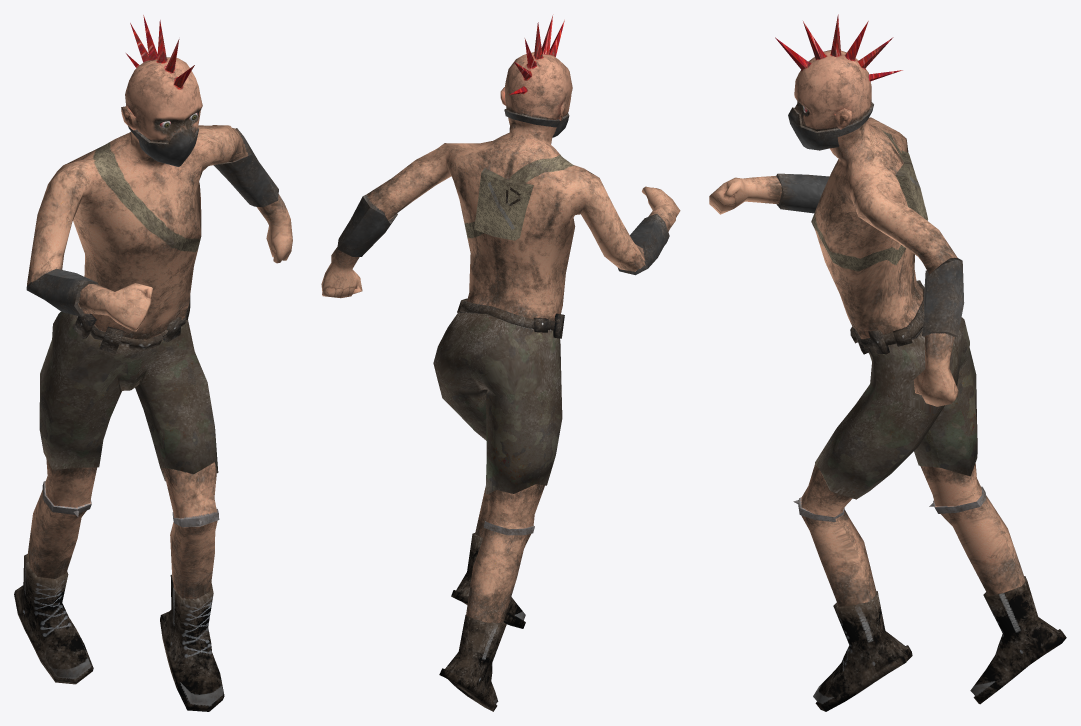
The model's file is Anim_correr_npc2.0035.obj.
The picture shows the model from 3 angles, left to right: view 1: azimuth 30°, elevation 25°; view 2: azimuth 150°, elevation 25°; view 3: azimuth 270°, elevation 25°; orthographic projection. The views are drawn at different scales.
Parts seen in each view (by area): view 1: Anim_correr_npc2; view 2: Anim_correr_npc2; view 3: Anim_correr_npc2.
Boxes of the visible parts, x1,y1,x2,y2 form: Anim_correr_npc2: (14, 15, 292, 711); Anim_correr_npc2: (321, 14, 680, 711); Anim_correr_npc2: (709, 14, 1066, 711).
Bounding box in the file's own units: 4.79 × 10.39 × 4.84.
